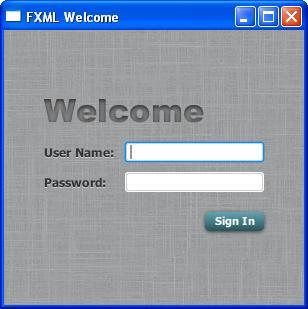button: (205, 214, 267, 234)
input: (126, 143, 265, 164), (126, 173, 265, 193)
label: (42, 96, 205, 126), (25, 12, 121, 27), (43, 147, 118, 161), (44, 177, 111, 192)
